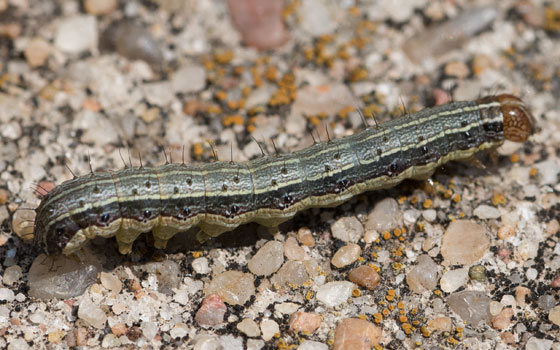Armyworm: (26, 60, 543, 292)
